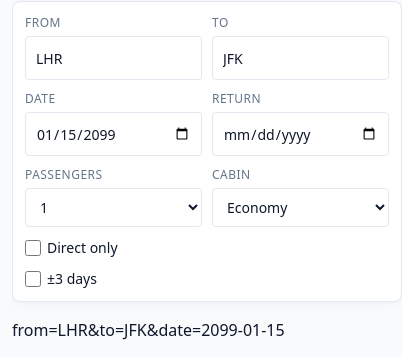
Test: SearchFormBar › typing in "From" updates URL with uppercased value
Replace the text in the dropdown labelled "From" with "cdg" at [114, 58], box x1=25 y1=36 x2=202 y2=80
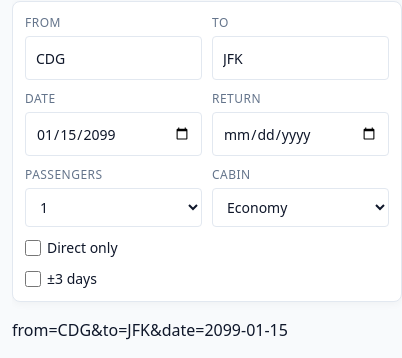
Check: the text with test id "probe" shows "from=CDG", box x1=12 y1=319 x2=288 y2=341
